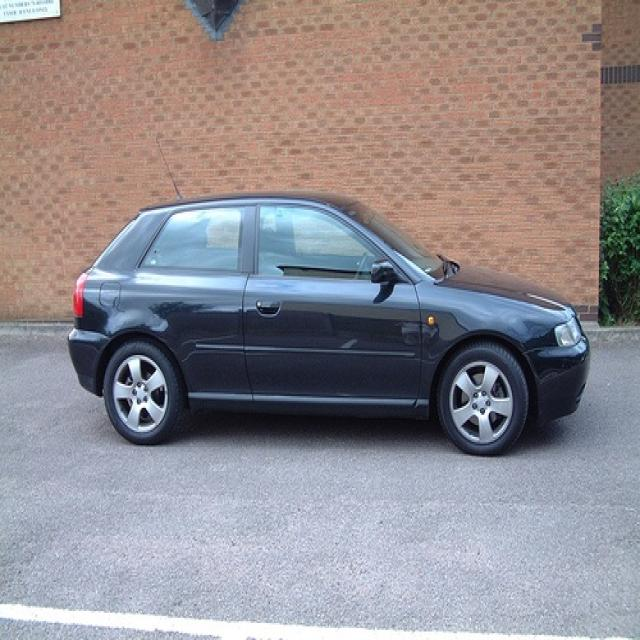car: (68, 195, 590, 458)
